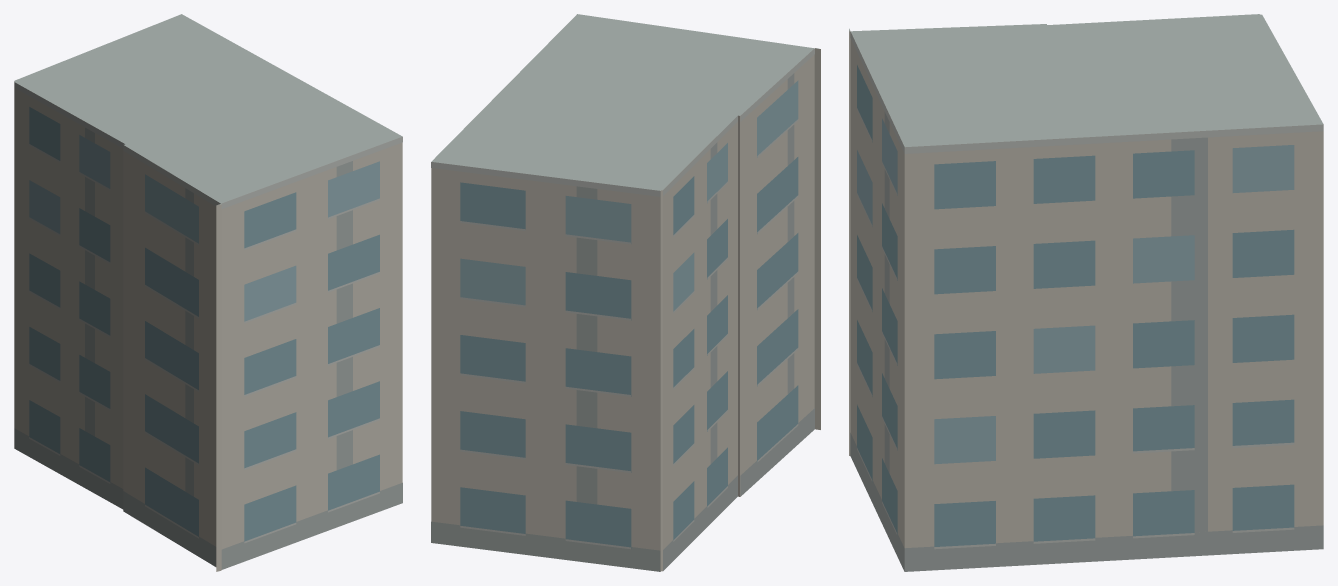
The model's file is survey-upis-32460876.glb.
3 renders of one model, left to right at view 1: azimuth 30°, elevation 25°; view 2: azimuth 150°, elevation 25°; view 3: azimuth 270°, elevation 25°, orthographic. The views are drawn at different scales.
Visible parts, largest first — view 1: survey-upis-32460876.tmp; view 2: survey-upis-32460876.tmp; view 3: survey-upis-32460876.tmp.
Boxes of the visible parts, left/top/right/bottom form: survey-upis-32460876.tmp: left=14, top=14, right=402, bottom=571; survey-upis-32460876.tmp: left=431, top=14, right=820, bottom=571; survey-upis-32460876.tmp: left=849, top=14, right=1323, bottom=571.
Bounding box in the file's own units: 10.26 × 15.25 × 15.45.
